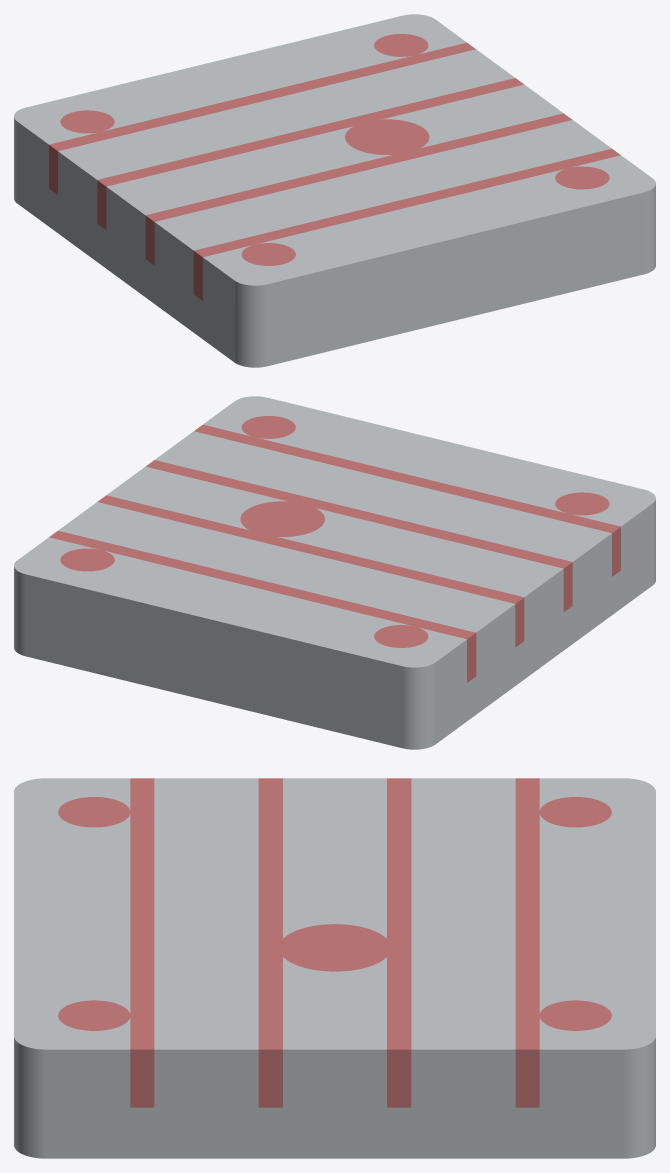
Rendered from step_15.glb.
3 views of the same model, one above another, from view 1: azimuth 30°, elevation 25°; view 2: azimuth 150°, elevation 25°; view 3: azimuth 270°, elevation 25° (orthographic). The views are drawn at different scales.
Parts seen in each view (by area): view 1: part__cylinder head, removed__cylinder head; view 2: part__cylinder head, removed__cylinder head; view 3: part__cylinder head, removed__cylinder head.
Part boxes in pixels (<box>): part__cylinder head: <box>14,14,655,367</box>; removed__cylinder head: <box>49,34,620,300</box>; part__cylinder head: <box>14,396,655,749</box>; removed__cylinder head: <box>49,416,620,682</box>; part__cylinder head: <box>14,778,655,1158</box>; removed__cylinder head: <box>58,778,611,1107</box>.
Size of the model in its own units: 80 by 15 by 80.
